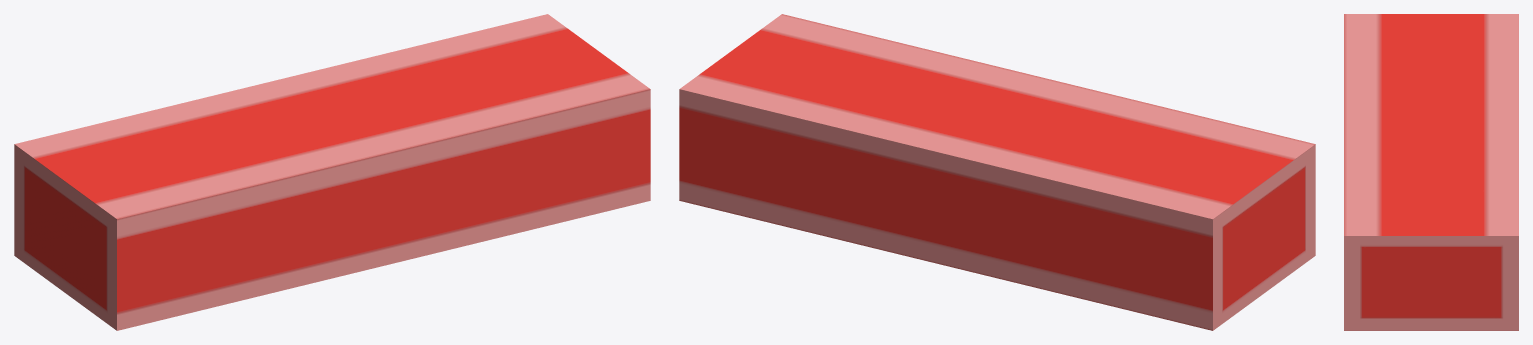
File: bian03.FBX
The picture shows the model from 3 angles, left to right: view 1: azimuth 30°, elevation 25°; view 2: azimuth 150°, elevation 25°; view 3: azimuth 270°, elevation 25°; orthographic projection. The views are drawn at different scales.
Visible parts, largest first — view 1: line001; view 2: line001; view 3: line001.
Part boxes in pixels (x1,y1,x2,y2): line001: [14, 14, 650, 330]; line001: [679, 14, 1315, 330]; line001: [1344, 14, 1518, 330].
Bounding box in the file's own units: 15 × 3 × 5.
